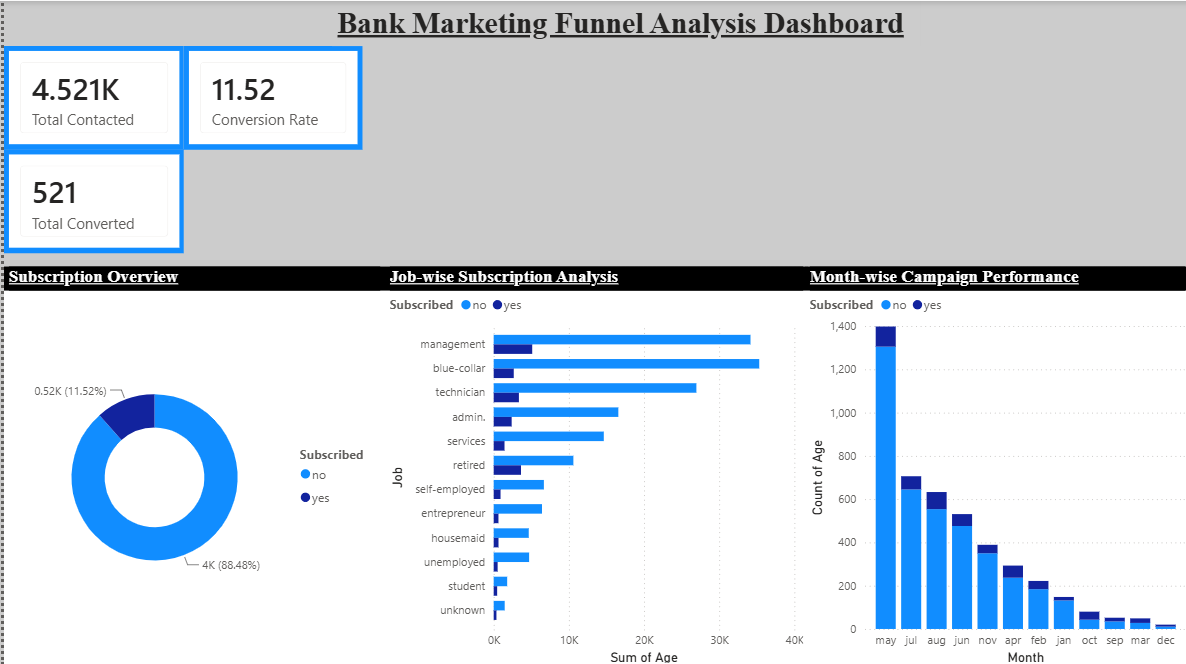

The dashboard page shown, as its layout file describes it:
{"tool":"powerbi","page":{"name":"Page 1","canvas":[1280,720],"ordinal":0},"visuals":[{"type":"cardVisual","fields":{"Data":["bank.Total Converted"]},"box":[0,160.3,194.3,111.7],"z":0},{"type":"cardVisual","fields":{"Data":["bank.Conversion Rate"]},"box":[194.3,48.6,192.7,111.7],"z":1000},{"type":"cardVisual","fields":{"Data":["CountNonNull(bank.Contact)"]},"box":[0,48.6,194.3,111.7],"z":2000},{"type":"donutChart","title":"Subscription Overview","fields":{"Y":["CountNonNull(bank.Age)"],"Category":["bank.Y"]},"box":[0,286.6,411.3,434],"z":3000},{"type":"clusteredBarChart","title":"Job-wise Subscription Analysis","fields":{"Category":["bank.Job"],"Series":["bank.Subscribed"],"Y":["Sum(bank.Age)"]},"box":[411.3,286.6,456.6,434],"z":4000},{"type":"columnChart","title":"Month-wise Campaign Performance","fields":{"Category":["bank.Month"],"Y":["CountNonNull(bank.Age)"],"Series":["bank.Subscribed"]},"box":[864.7,286.6,416.1,434],"z":4001},{"type":"textbox","box":[354.6,0,634.7,48.6],"z":4002}]}

Visuals, with their boxes in screenshot pixels (x1, y1, x2, y2), scaled from the page's 1280x720 canvas onto the 1186x664 screenshot:
cardVisual - bank.Total Converted: locate(0, 148, 180, 251)
cardVisual - bank.Conversion Rate: locate(180, 45, 359, 148)
cardVisual - CountNonNull(bank.Contact): locate(0, 45, 180, 148)
"Subscription Overview" donutChart: locate(0, 264, 381, 663)
"Job-wise Subscription Analysis" clusteredBarChart: locate(381, 264, 804, 663)
"Month-wise Campaign Performance" columnChart: locate(801, 264, 1185, 663)
textbox: locate(329, 0, 917, 45)
